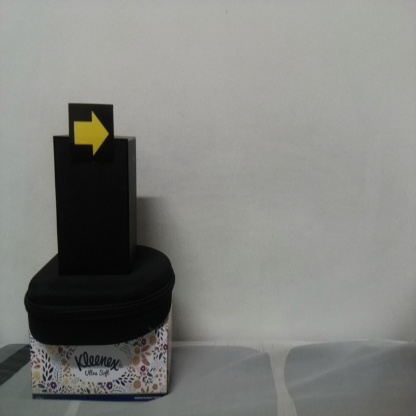id_3: (69, 104, 114, 172)
